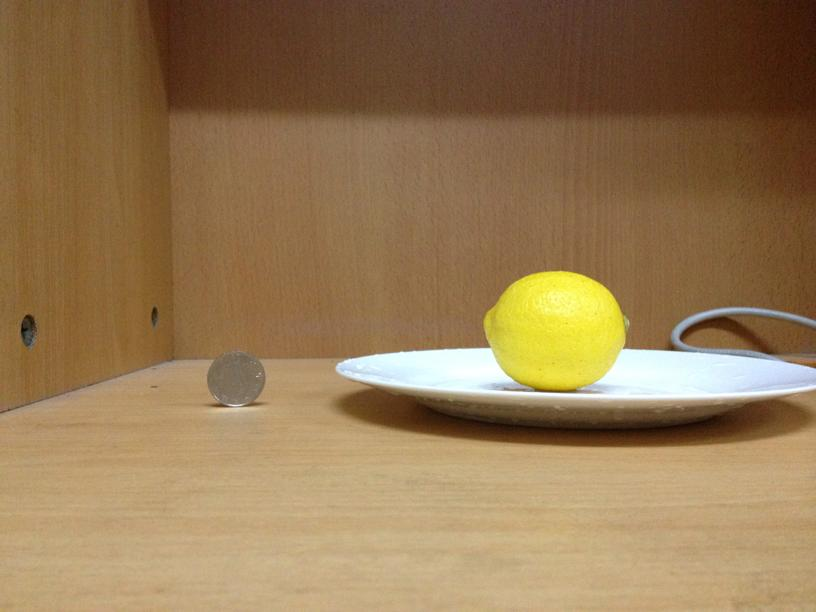coin: (205, 349, 265, 407)
lemon: (484, 272, 627, 392)
